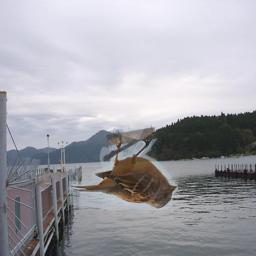Sparrow: (69, 122, 178, 210)
